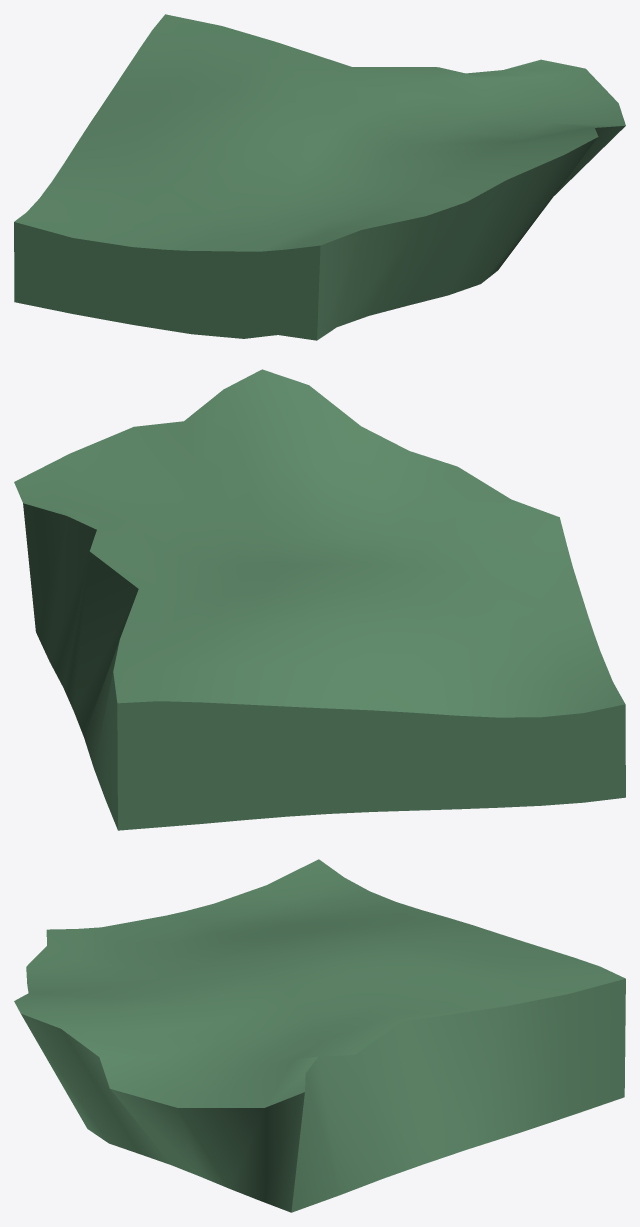
File: Hill_R.fbx
The picture shows the model from 3 angles, top to bottom: view 1: azimuth 30°, elevation 25°; view 2: azimuth 150°, elevation 25°; view 3: azimuth 270°, elevation 25°; orthographic projection. The views are drawn at different scales.
Parts seen in each view (by area): view 1: Hill2; view 2: Hill2; view 3: Hill2.
Part boxes in pixels (box(x1,y1,x2,y2)): Hill2: box(14, 14, 625, 340); Hill2: box(14, 369, 625, 830); Hill2: box(14, 859, 625, 1212).
Size of the model in its own units: 38.01 by 10.69 by 33.88.
